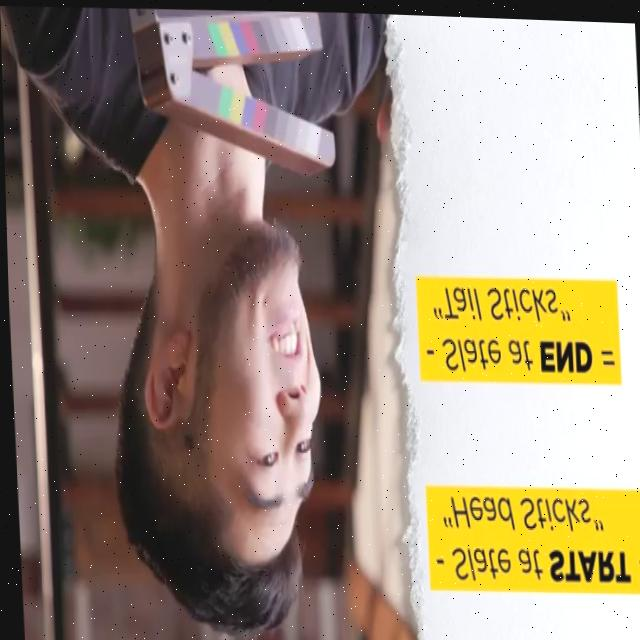Clapperboard: (128, 5, 338, 185)
